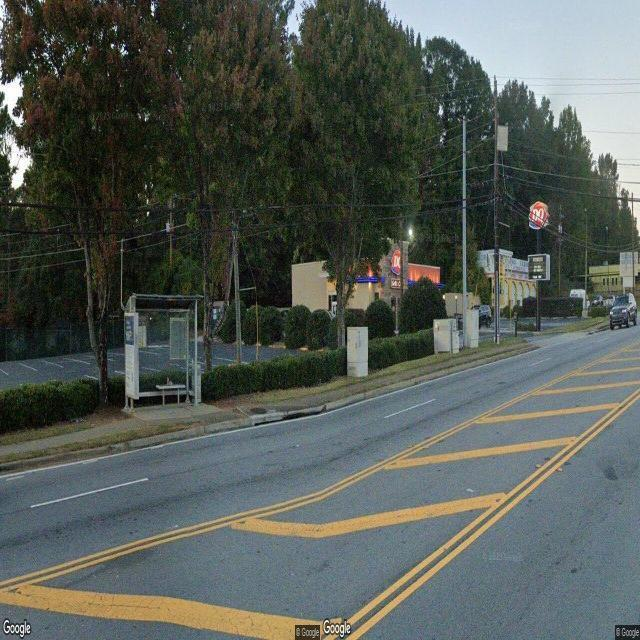seating: (156, 382, 186, 407)
shelter: (123, 293, 204, 412)
trash_can: (192, 364, 202, 404)
